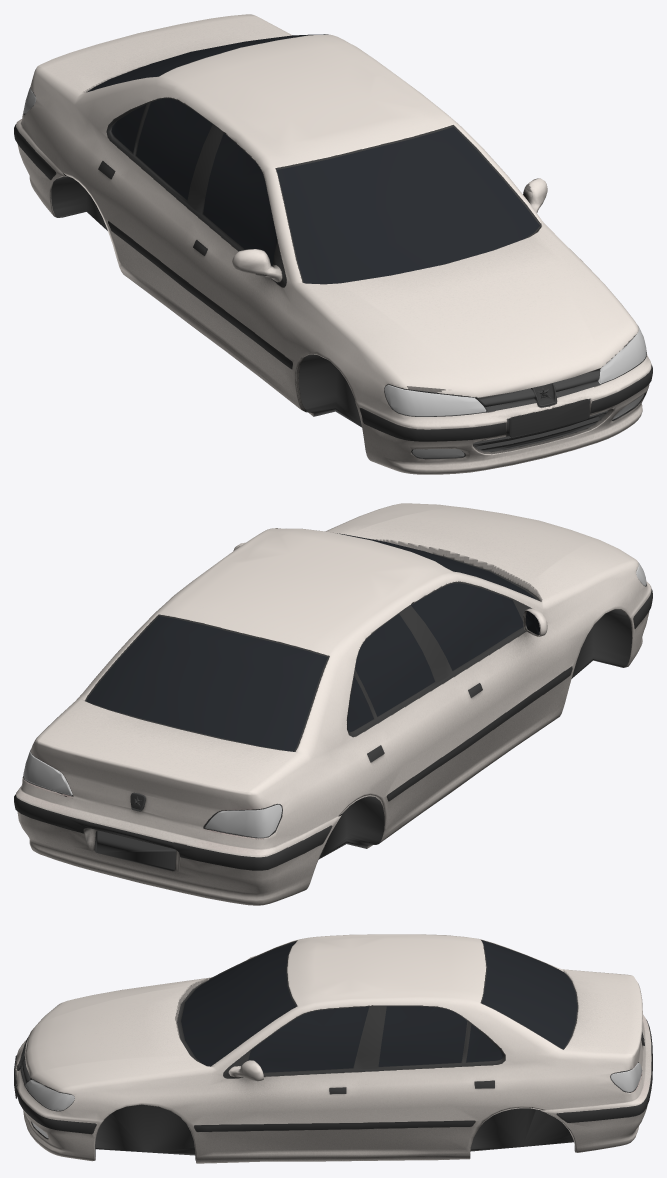
Rendered from car_0010.fbx.
3 renders of one model, top to bottom at view 1: azimuth 30°, elevation 25°; view 2: azimuth 150°, elevation 25°; view 3: azimuth 270°, elevation 25°, orthographic. The views are drawn at different scales.
Visible parts, largest first — view 1: car_main; view 2: car_main; view 3: car_main.
Part boxes in pixels (box(x1,y1,x2,y2)): car_main: box(14, 14, 652, 474); car_main: box(14, 503, 652, 905); car_main: box(14, 934, 652, 1163).
Size of the model in its own units: 202 by 128 by 469.
